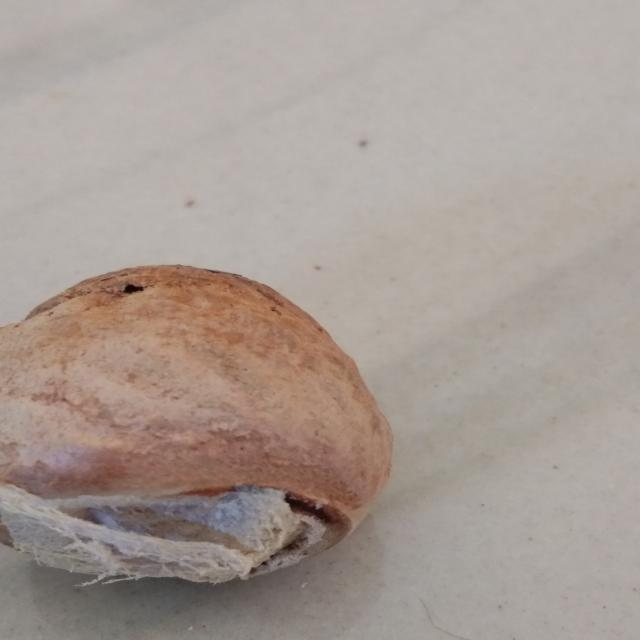karigot: (0, 250, 402, 591)
